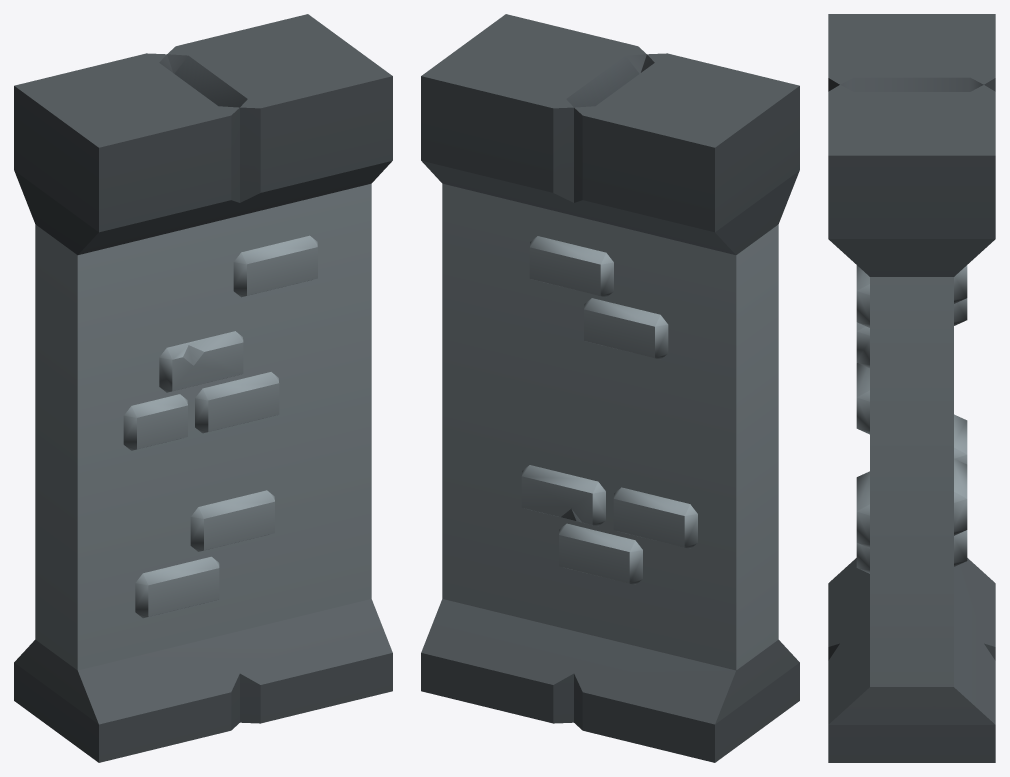
Rendered from wall_half.gltf.
The picture shows the model from 3 angles, left to right: view 1: azimuth 30°, elevation 25°; view 2: azimuth 150°, elevation 25°; view 3: azimuth 270°, elevation 25°; orthographic projection.
Parts seen in each view (by area): view 1: wall_half; view 2: wall_half; view 3: wall_half.
Boxes of the visible parts, x1=… form: wall_half: x1=14, y1=14, x2=392, y2=762; wall_half: x1=421, y1=14, x2=799, y2=762; wall_half: x1=828, y1=14, x2=995, y2=762.
Bounding box in the file's own units: 2 × 4 × 1.
1 material, 1 textured.
